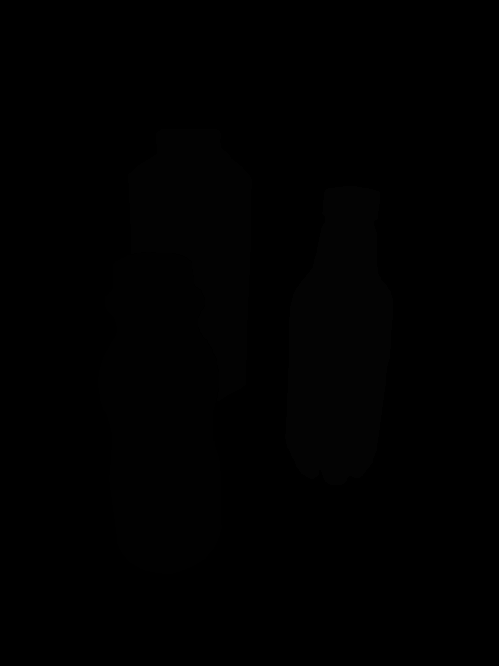carton: (124, 127, 255, 409)
milk_bottle: (96, 250, 229, 579)
water_bottle: (281, 184, 394, 488)
